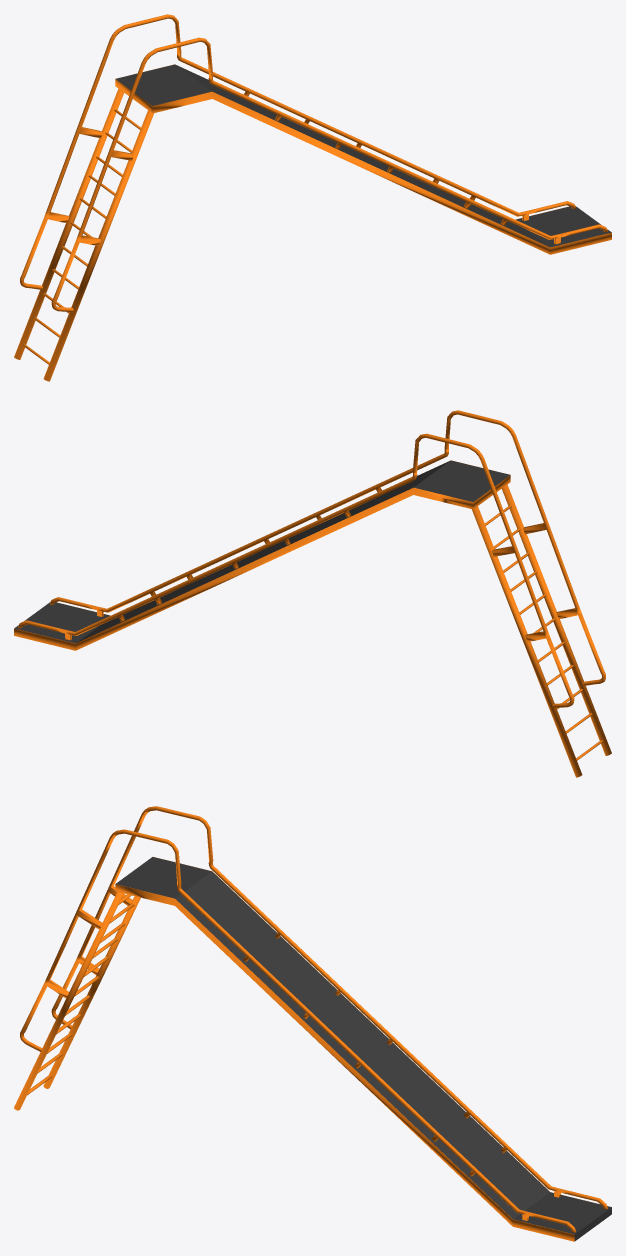
The model's file is slide.glb.
3 views of the same model, one above another, from view 1: azimuth 30°, elevation 25°; view 2: azimuth 150°, elevation 25°; view 3: azimuth 330°, elevation 25° (orthographic).
Parts seen in each view (by area): view 1: ZOOLA SLIDE.001, SLIDE; view 2: ZOOLA SLIDE.001, SLIDE; view 3: SLIDE, ZOOLA SLIDE.001.
Part boxes in pixels (x1,y1,x2,y2): ZOOLA SLIDE.001: (14,14,611,381); SLIDE: (116,64,611,247); ZOOLA SLIDE.001: (14,410,611,777); SLIDE: (14,460,509,643); SLIDE: (116,857,611,1241); ZOOLA SLIDE.001: (14,806,607,1241).
Bounding box in the file's own units: 9.6 × 5 × 1.11.
